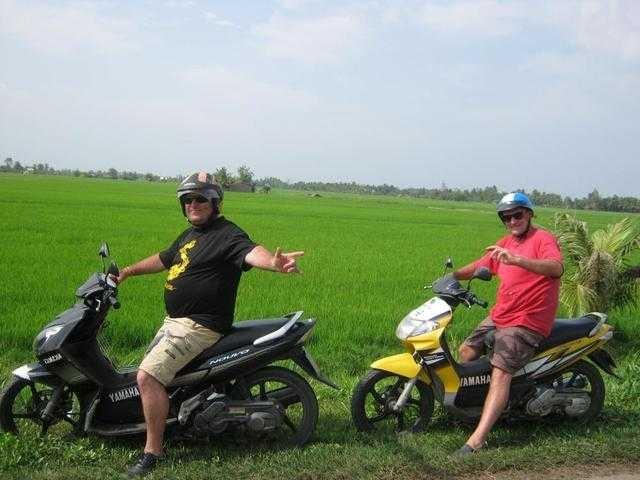motorbike: (3, 270, 331, 467), (343, 269, 621, 449)
